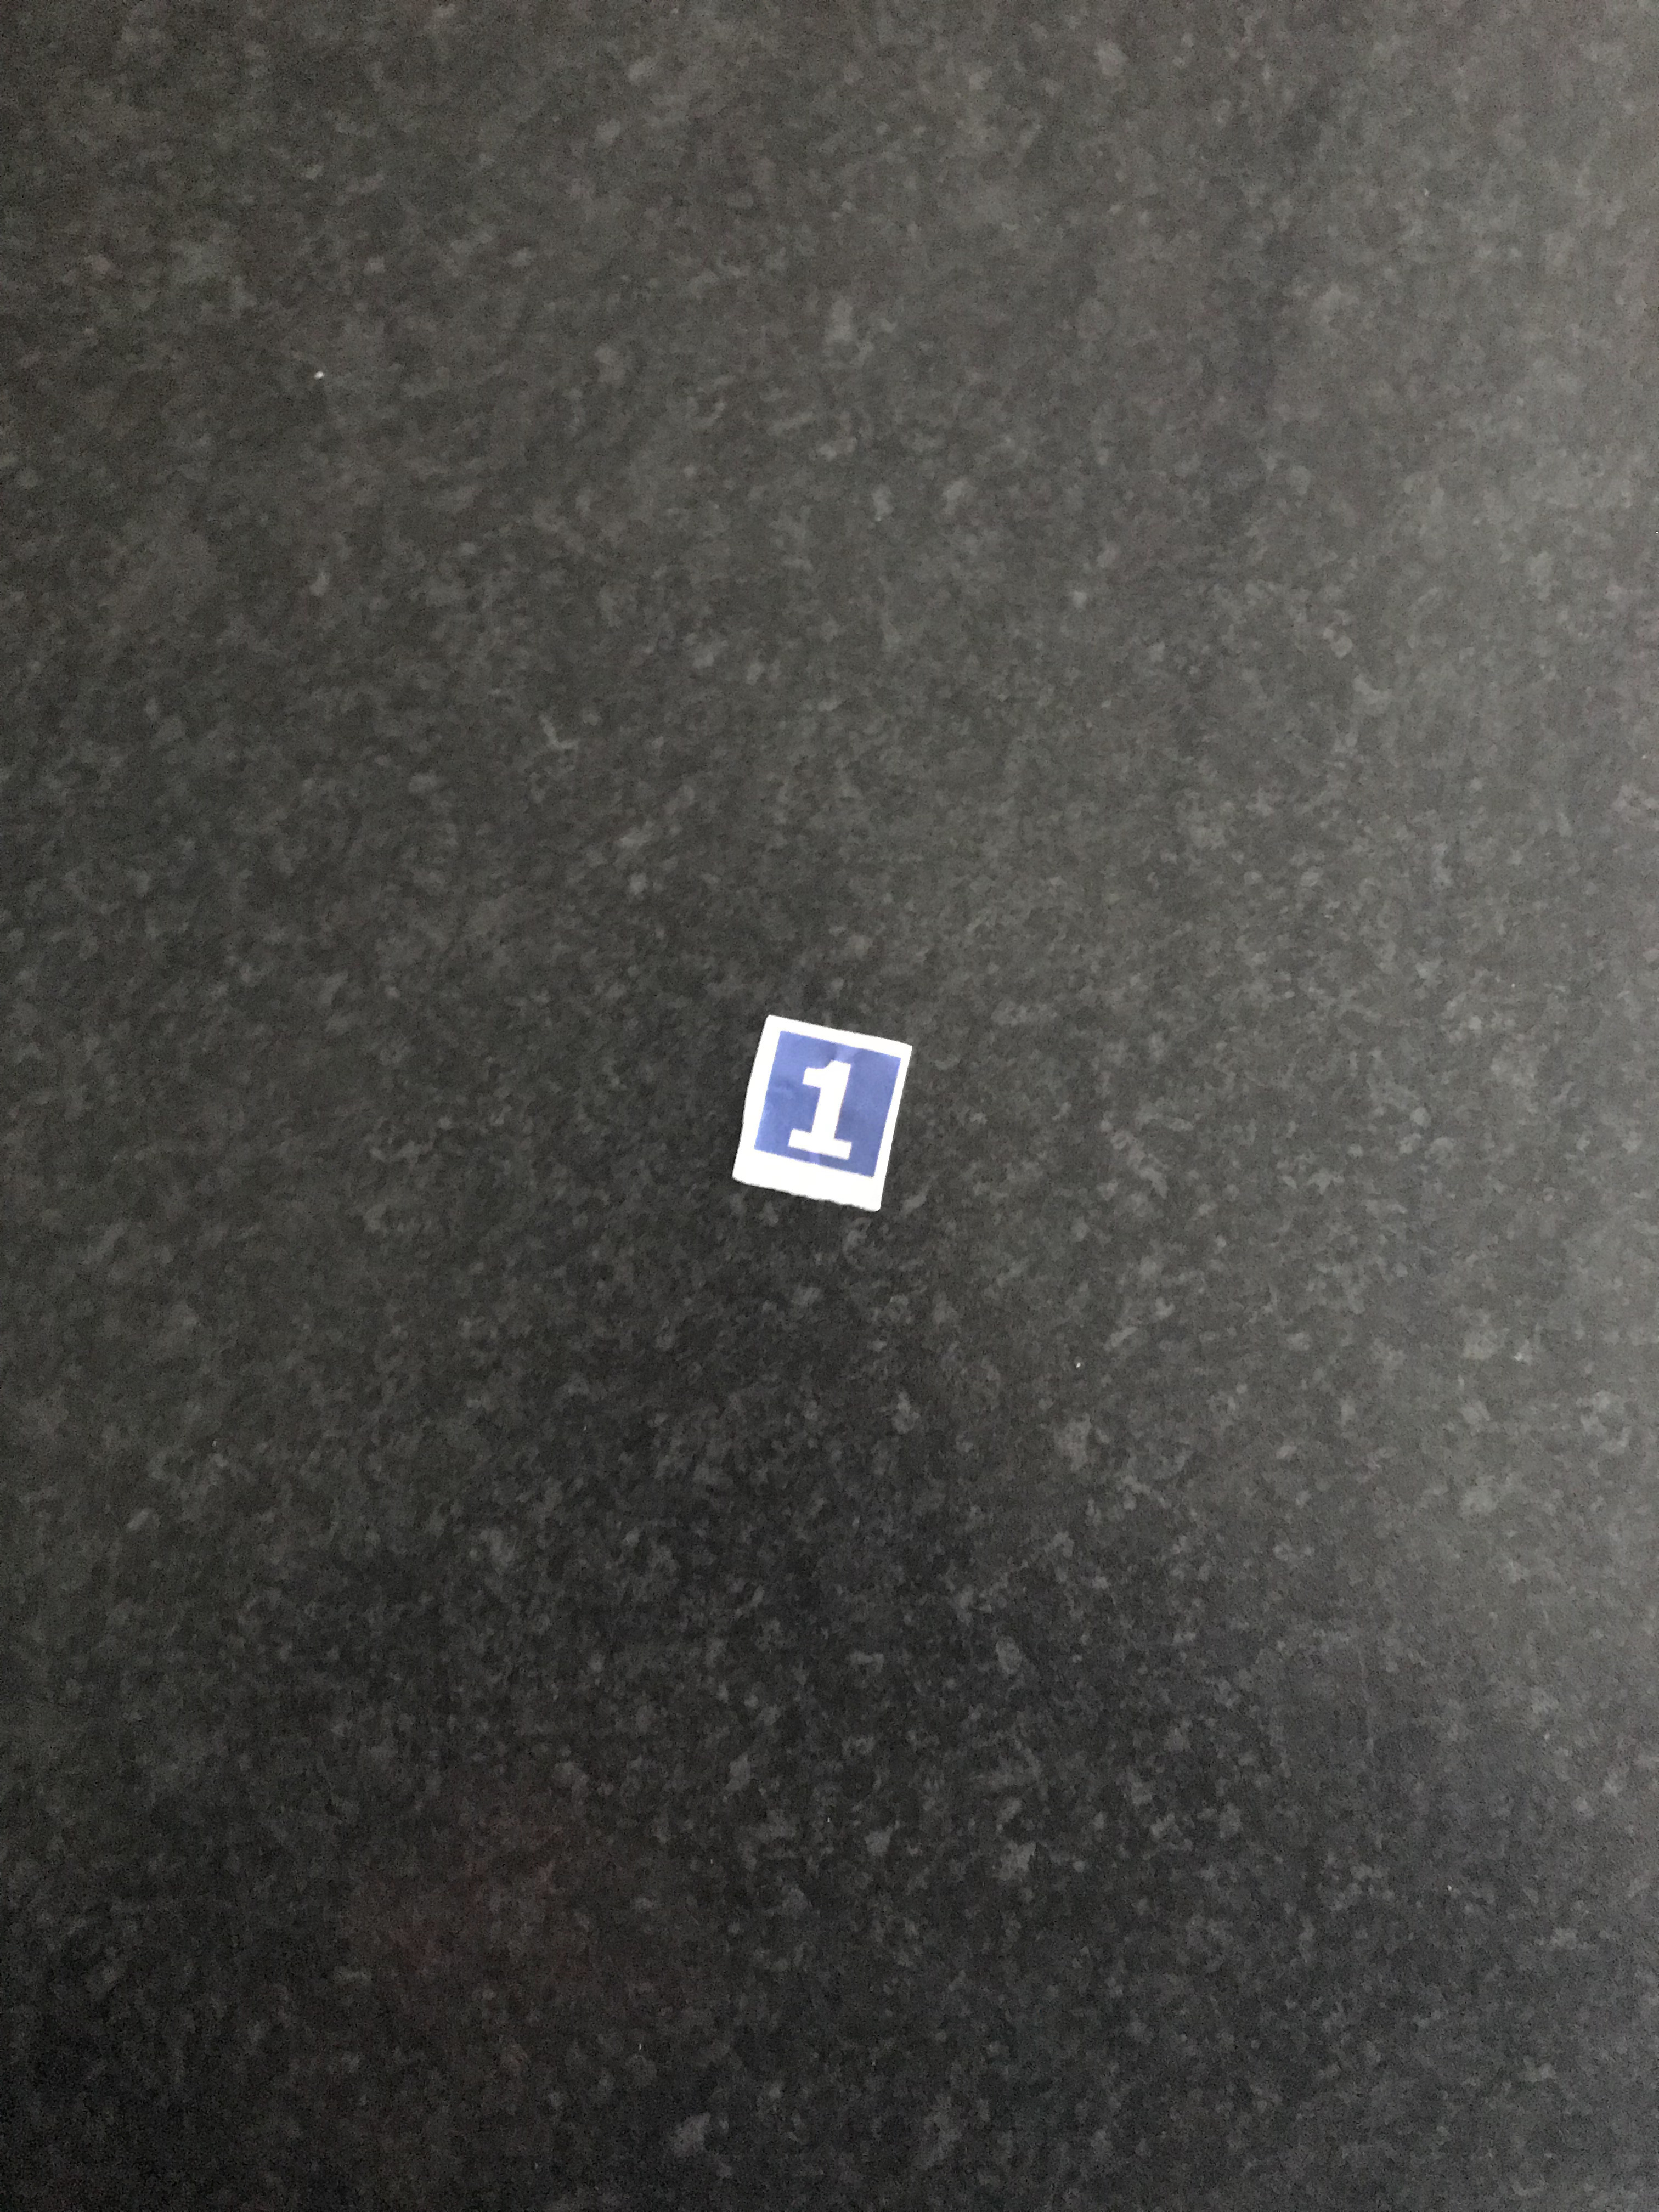marker: (721, 1010, 917, 1219)
